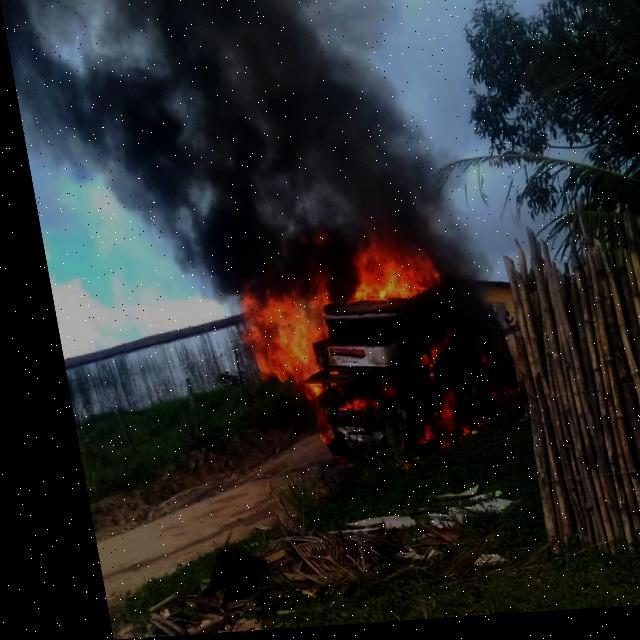Fire: (228, 270, 338, 406), (328, 229, 428, 306), (397, 386, 451, 456), (320, 398, 364, 420)
